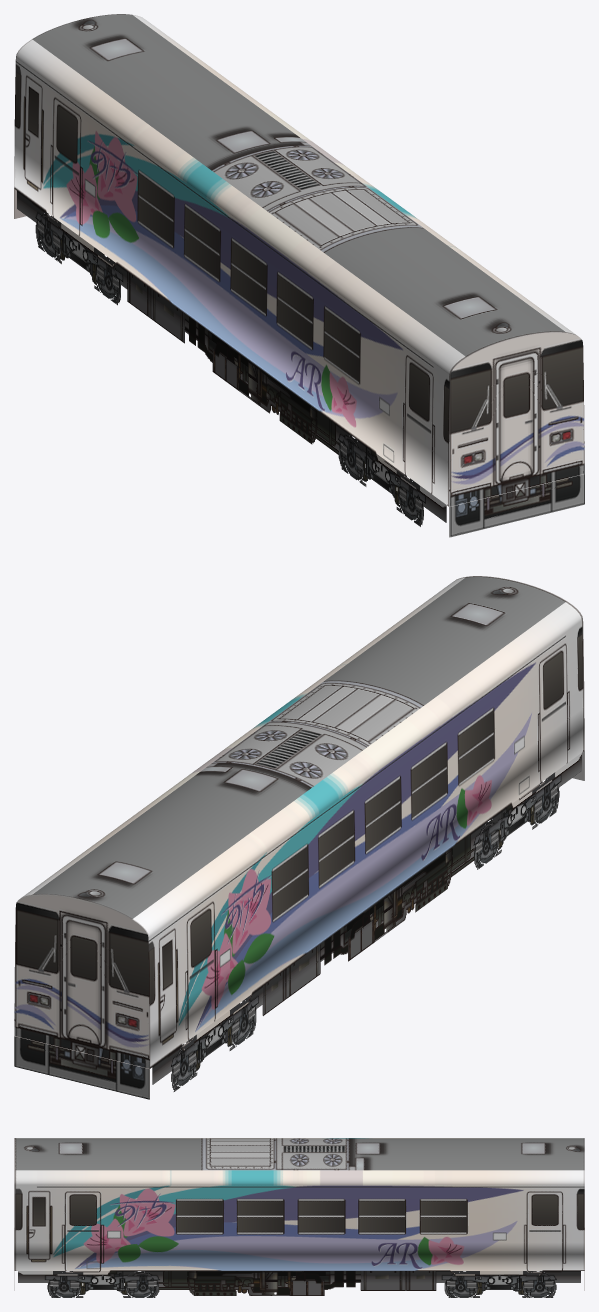
File: car1.glb
3 views of the same model, one above another, from view 1: azimuth 30°, elevation 25°; view 2: azimuth 150°, elevation 25°; view 3: azimuth 270°, elevation 25° (orthographic). The views are drawn at different scales.
Visible parts, largest first — view 1: aketi-10; view 2: aketi-10; view 3: aketi-10.
Boxes of the visible parts, <box> form: aketi-10: <box>14,14,584,537</box>; aketi-10: <box>14,576,584,1099</box>; aketi-10: <box>14,1138,584,1297</box>.
Bounding box in the file's own units: 2.7 × 3.69 × 15.03.
8 materials, 7 textured.
